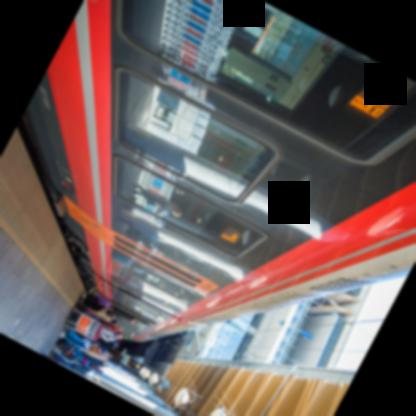backpack: (86, 346, 102, 355), (106, 321, 117, 330), (106, 311, 115, 320)
handbag: (145, 195, 171, 207), (88, 346, 102, 358), (110, 320, 116, 324)
suitcase: (54, 338, 79, 360)
